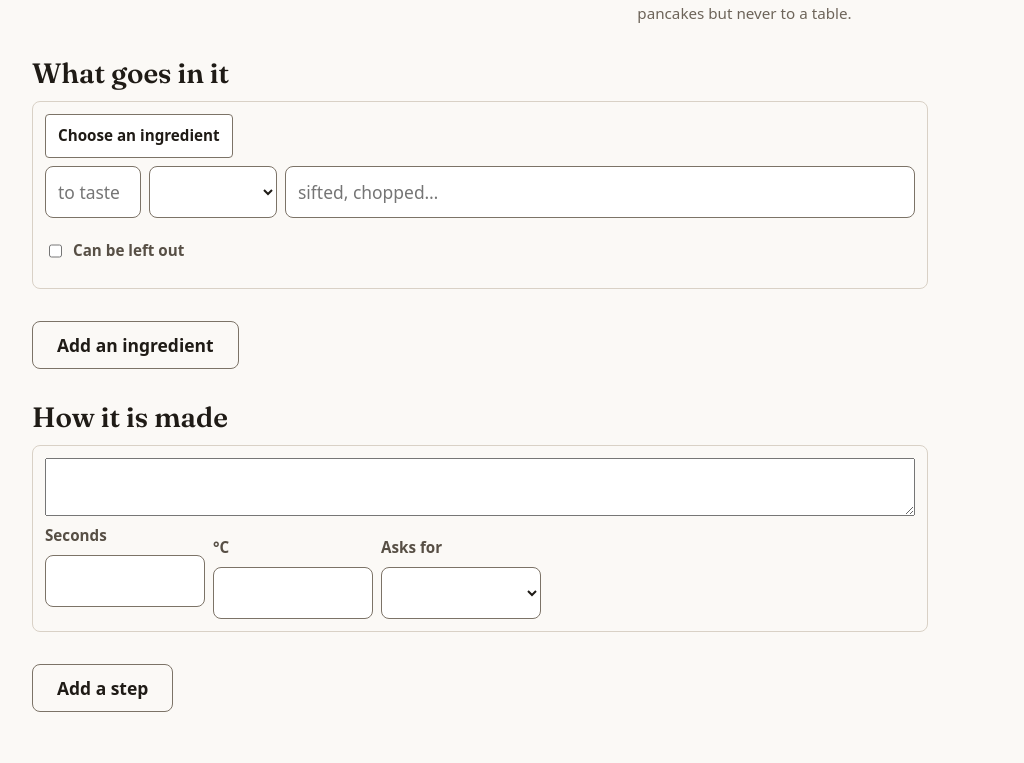
RecipeFormComponent › lines and steps › another line can be added
The image size is (1024, 763).
(page scrolled)
Click the button "Add an ingredient" at (135, 345), box top-left (32, 321), bottom-right (238, 369)
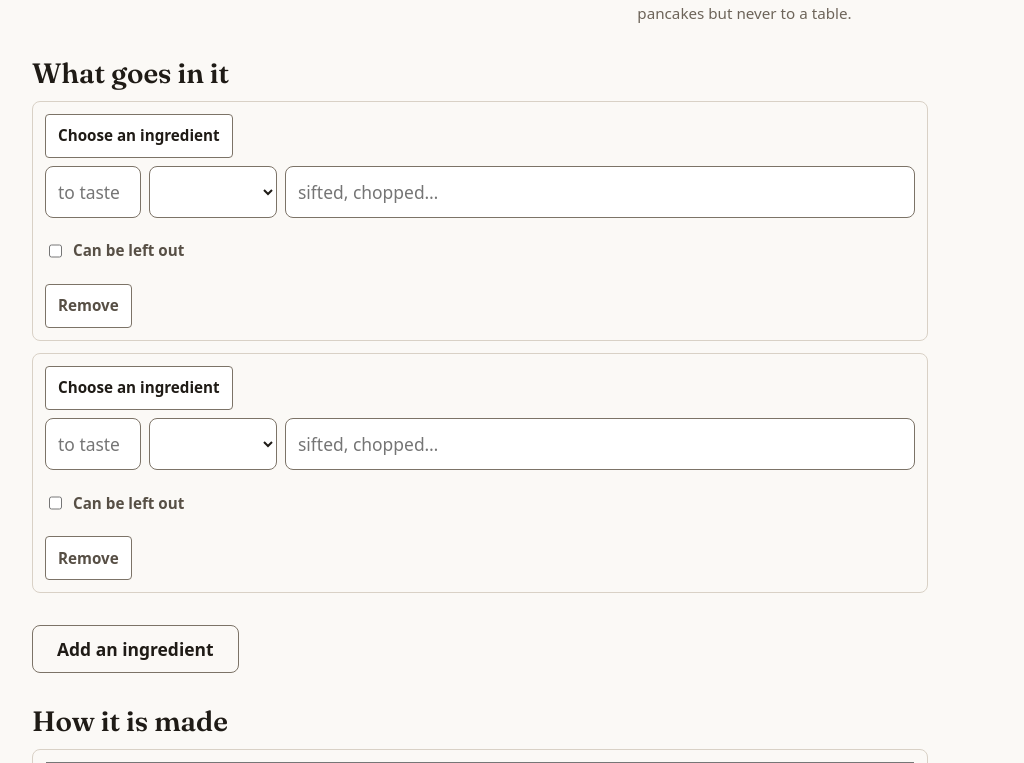
Result: the number of list items with class "line" is 2 at top-left (32, 101), bottom-right (928, 341); top-left (32, 353), bottom-right (928, 593)
